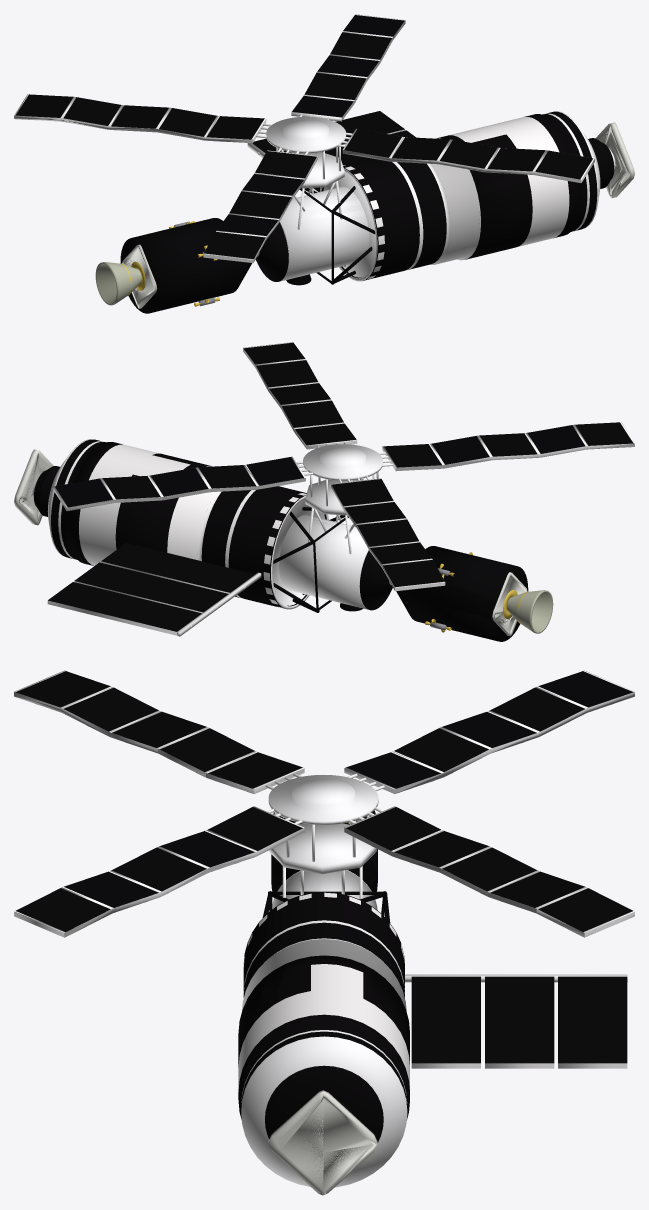
File: skylab.glb
The picture shows the model from 3 angles, top to bottom: view 1: azimuth 30°, elevation 25°; view 2: azimuth 150°, elevation 25°; view 3: azimuth 270°, elevation 25°; orthographic projection. The views are drawn at different scales.
Visible parts, largest first — view 1: polySurfac; view 2: polySurfac; view 3: polySurfac.
Part boxes in pixels (x1,y1,x2,y2): polySurfac: (14,14,634,313); polySurfac: (14,342,634,641); polySurfac: (14,670,634,1195).
Size of the model in its own units: 38.74 by 11.78 by 29.85.
Materials: 4 (4 with a texture image).
